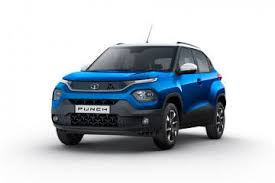Tiago: (51, 36, 227, 152)
